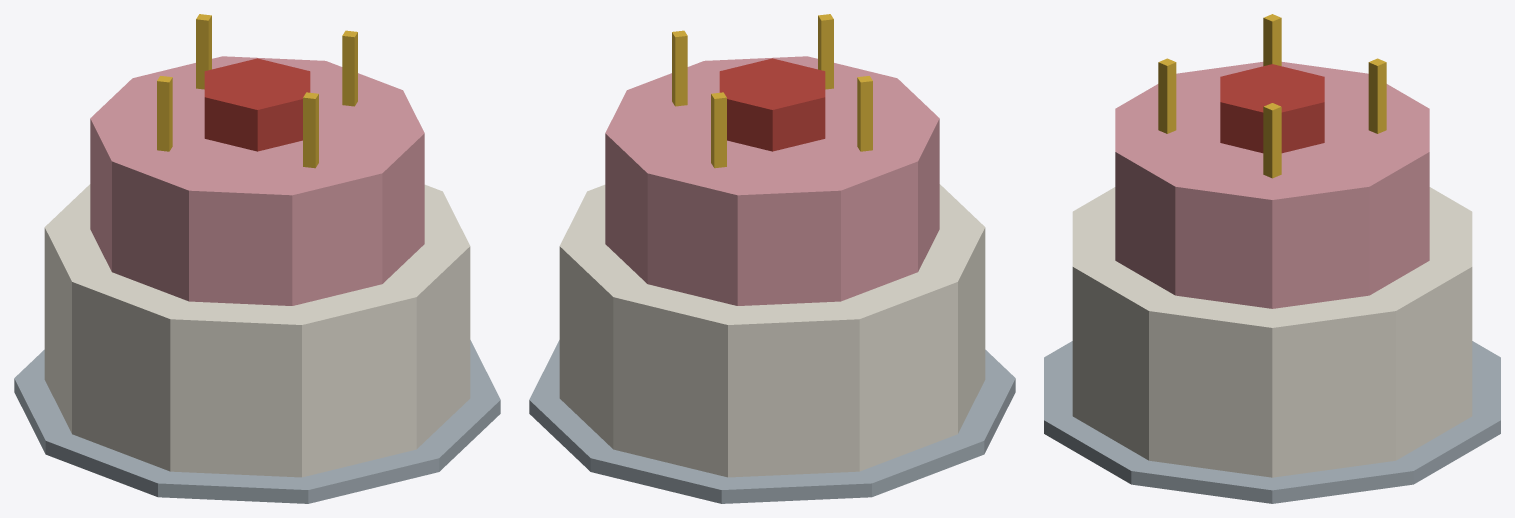
Rendered from FD_Cake_01.glb.
3 renders of one model, left to right at view 1: azimuth 30°, elevation 25°; view 2: azimuth 150°, elevation 25°; view 3: azimuth 270°, elevation 25°, orthographic.
Visible parts, largest first — view 1: FD_Cake_01; view 2: FD_Cake_01; view 3: FD_Cake_01.
Part boxes in pixels (<box>): FD_Cake_01: <box>14,14,500,503</box>; FD_Cake_01: <box>529,14,1015,503</box>; FD_Cake_01: <box>1044,14,1500,503</box>.
Bounding box in the file's own units: 0.32 × 0.25 × 0.3043.
1 material, 1 textured.
